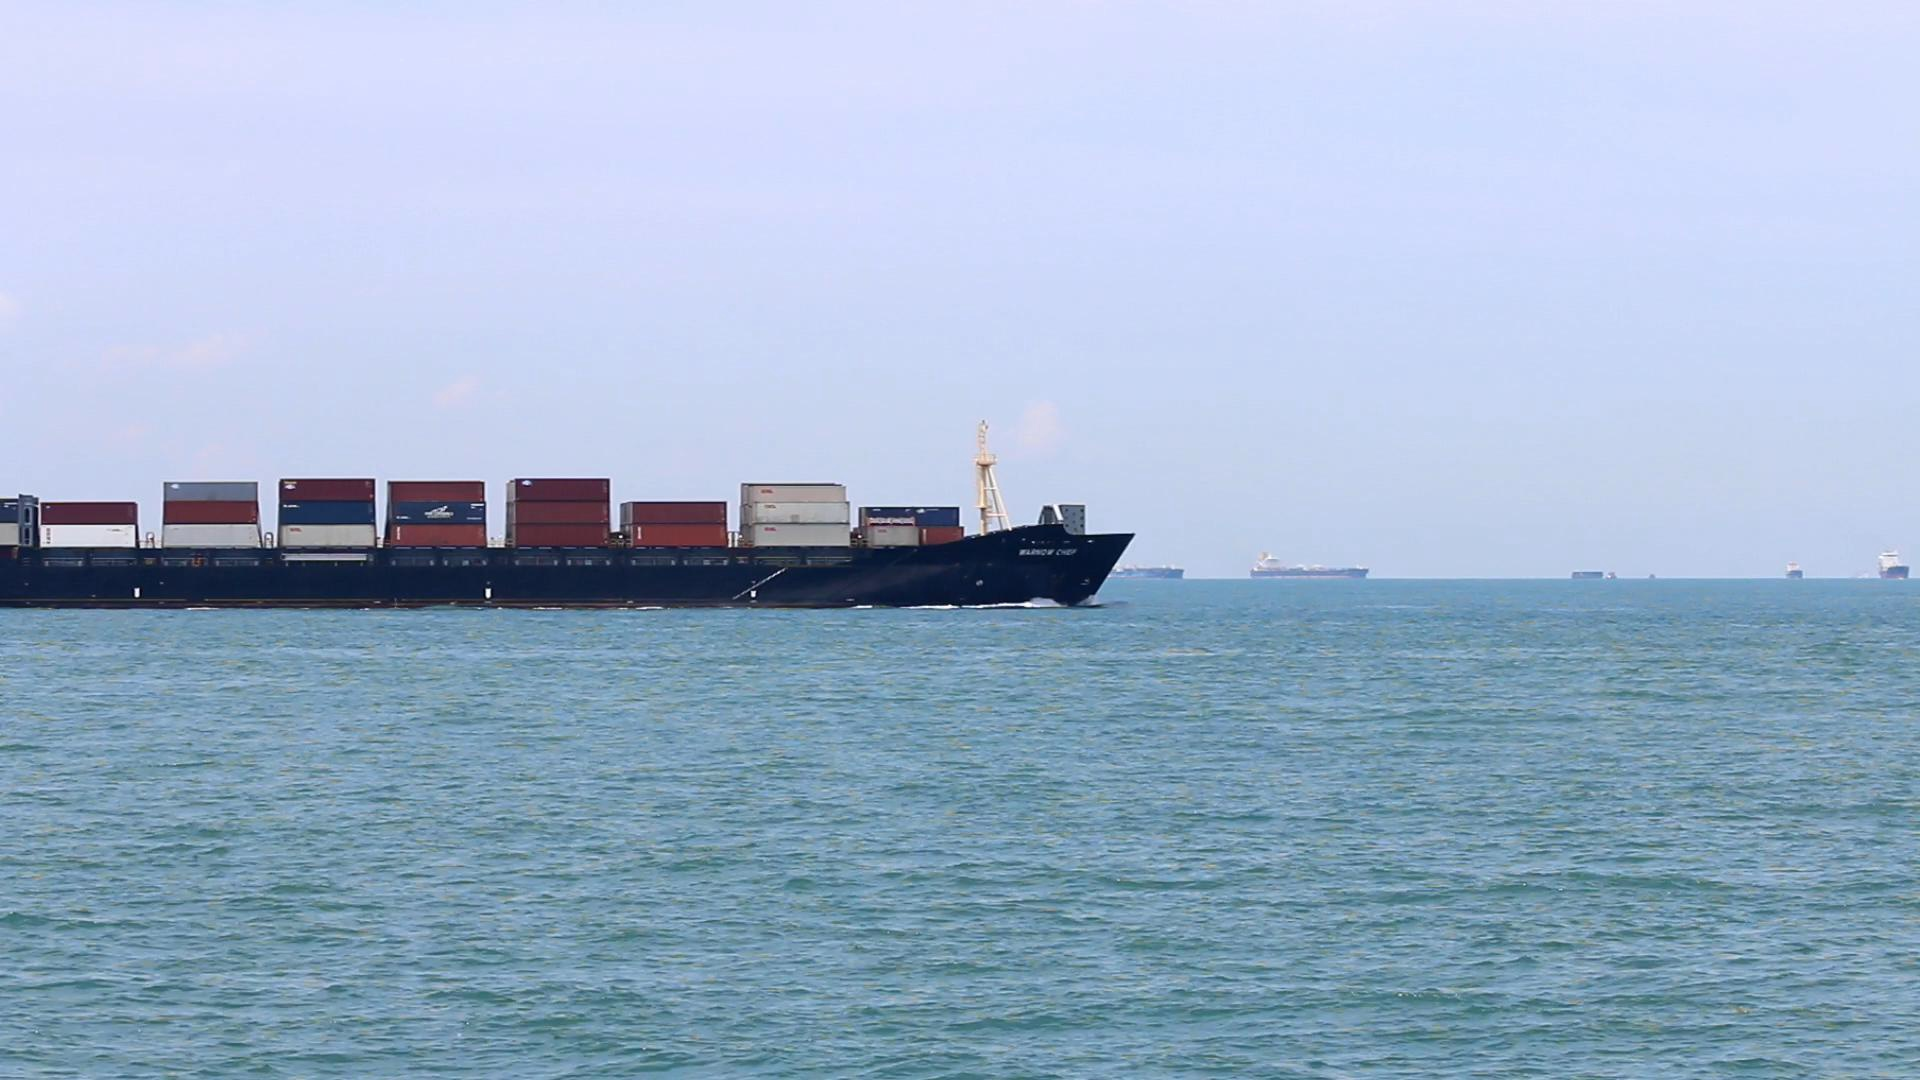Container Ship: (1, 411, 1149, 609), (1246, 545, 1386, 580), (1869, 539, 1920, 587), (1568, 554, 1627, 593), (1779, 550, 1822, 584), (1644, 554, 1669, 591)
